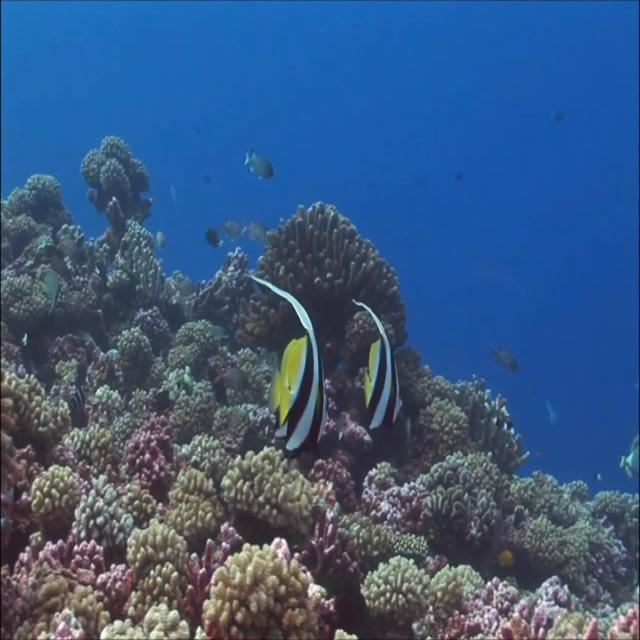Bannerfish: (253, 270, 326, 452), (353, 297, 401, 434)
